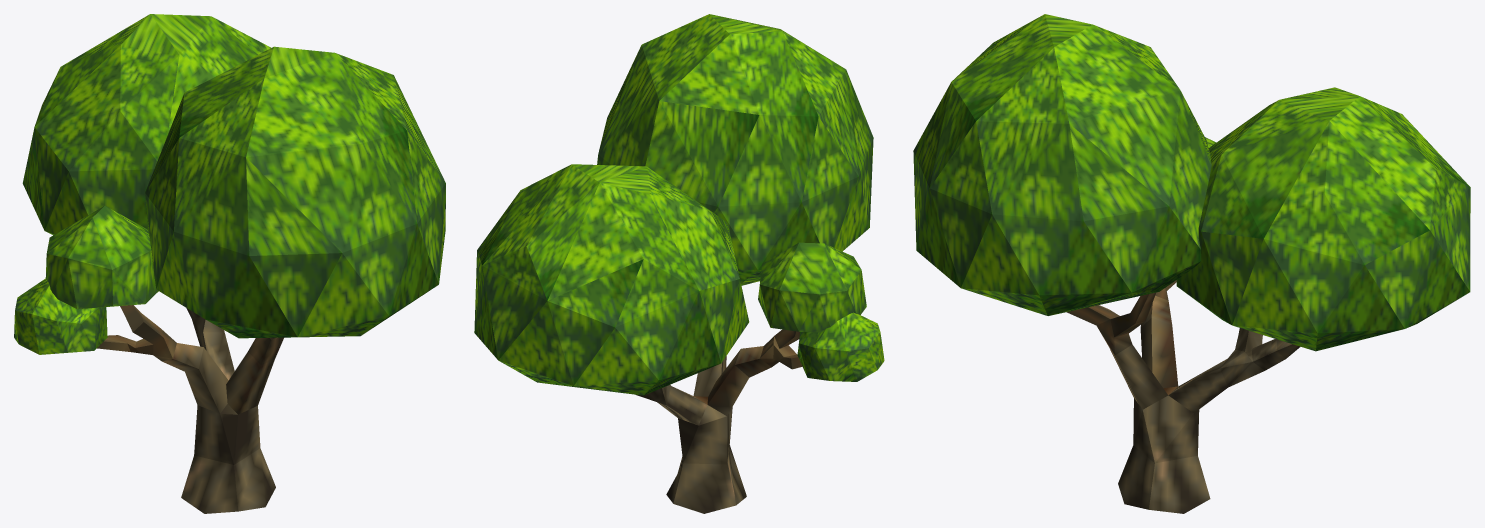
Rendered from Poly_Tree_01_C.obj.
The picture shows the model from 3 angles, left to right: view 1: azimuth 30°, elevation 25°; view 2: azimuth 150°, elevation 25°; view 3: azimuth 270°, elevation 25°; orthographic projection. The views are drawn at different scales.
Parts seen in each view (by area): view 1: Icosphere.001_Icosphere.001, Icosphere.002_Icosphere.002, Plane.002, Icosphere.002, Icosphere.001; view 2: Icosphere.002_Icosphere.002, Icosphere.001_Icosphere.001, Plane.002, Icosphere.002, Icosphere.001; view 3: Icosphere.001_Icosphere.001, Icosphere.002_Icosphere.002, Plane.002.
Boxes of the visible parts, x1,y1,x2,y2 form: Icosphere.001_Icosphere.001: [145, 46, 445, 338]; Icosphere.002_Icosphere.002: [22, 14, 271, 235]; Plane.002: [97, 305, 283, 513]; Icosphere.002: [45, 205, 158, 309]; Icosphere.001: [14, 278, 107, 354]; Icosphere.002_Icosphere.002: [474, 164, 749, 395]; Icosphere.001_Icosphere.001: [597, 14, 873, 285]; Plane.002: [636, 329, 802, 513]; Icosphere.002: [758, 242, 866, 332]; Icosphere.001: [797, 312, 884, 381]; Icosphere.001_Icosphere.001: [913, 14, 1211, 315]; Icosphere.002_Icosphere.002: [1176, 87, 1470, 351]; Plane.002: [1066, 280, 1300, 513].
Bounding box in the file's own units: 2.94 × 3.74 × 3.94.
Materials: 1 (1 with a texture image).
